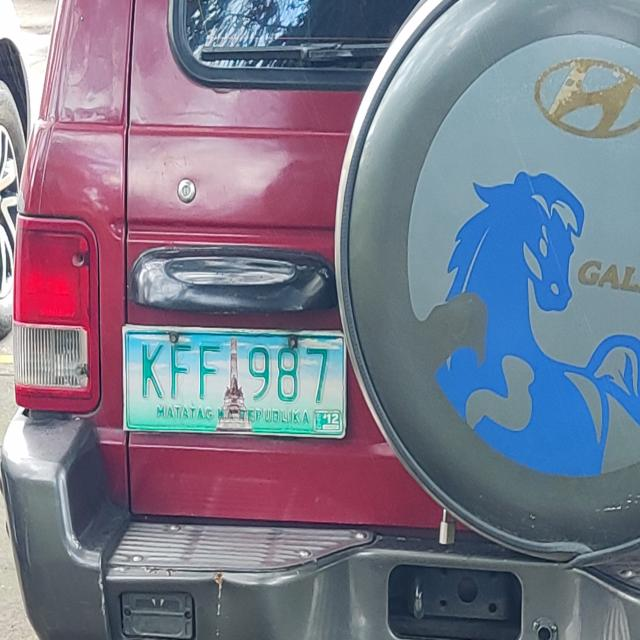plate: (119, 320, 349, 442)
